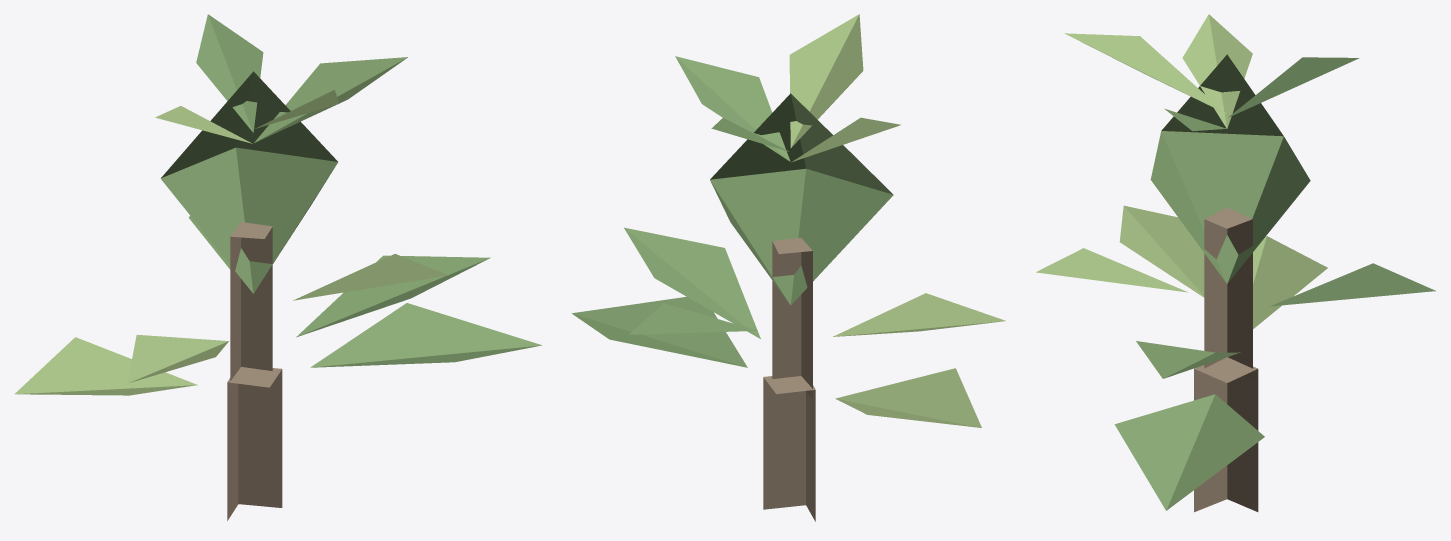
The model's file is shu.ganju@seedling__spring.glb.
3 views of the same model, side by side, from view 1: azimuth 30°, elevation 25°; view 2: azimuth 150°, elevation 25°; view 3: azimuth 270°, elevation 25° (orthographic). The views are drawn at different scales.
Visible parts, largest first — view 1: shu.ganju@seedling__spring; view 2: shu.ganju@seedling__spring; view 3: shu.ganju@seedling__spring.
Part boxes in pixels (box(x1,y1,x2,y2)): shu.ganju@seedling__spring: box(14, 14, 541, 520); shu.ganju@seedling__spring: box(572, 14, 1005, 521); shu.ganju@seedling__spring: box(1036, 14, 1435, 512).
Bounding box in the file's own units: 0.6195 × 0.5769 × 0.4347.
